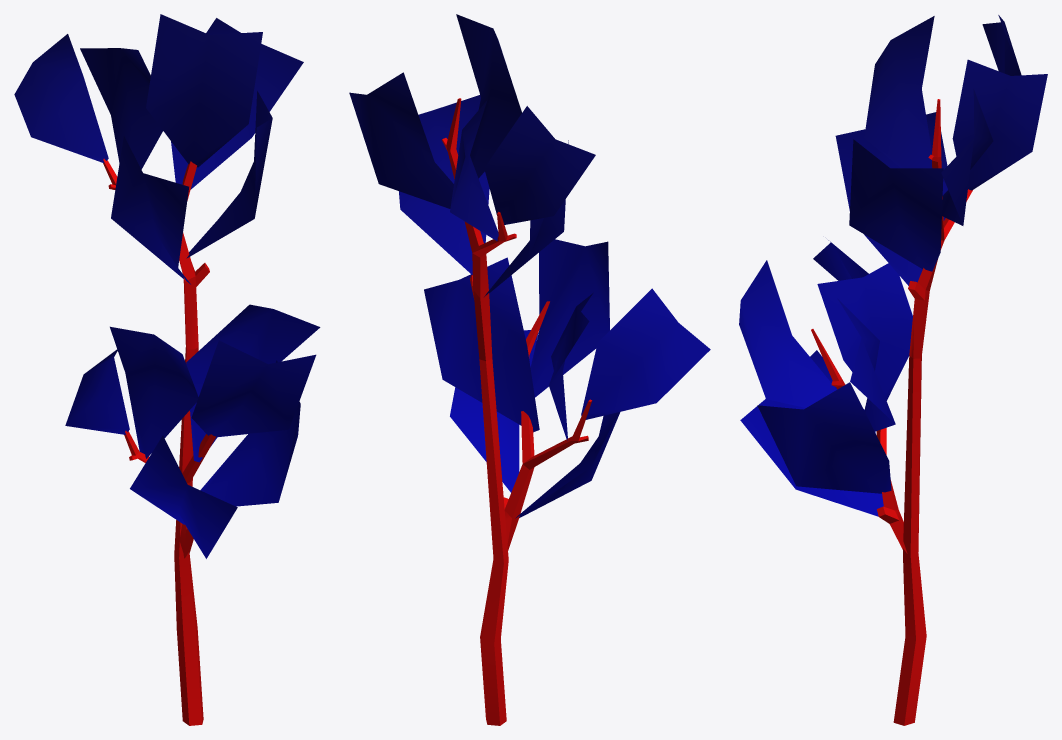
Rendered from SM_Tree_Dead_02.fbx.
3 renders of one model, left to right at view 1: azimuth 30°, elevation 25°; view 2: azimuth 150°, elevation 25°; view 3: azimuth 270°, elevation 25°, orthographic.
Parts seen in each view (by area): view 1: SM_Tree_Dead_02; view 2: SM_Tree_Dead_02; view 3: SM_Tree_Dead_02.
Boxes of the visible parts, x1,y1,x2,y2 form: SM_Tree_Dead_02: (14,14,320,725); SM_Tree_Dead_02: (349,14,710,725); SM_Tree_Dead_02: (739,15,1047,725).
Bounding box in the file's own units: 119 × 266 × 107.
